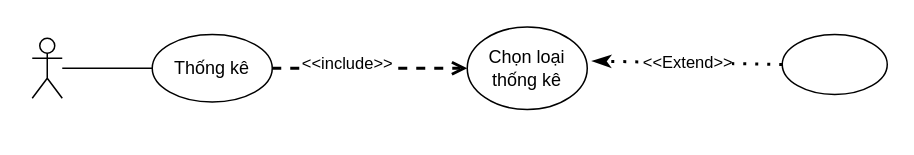
This 914x155 diagram has some shape labels left out. Here are the shapes that lost their labels. From the top down, the centre of each, then its label:
point 46,67: Actor
point 834,63: In
